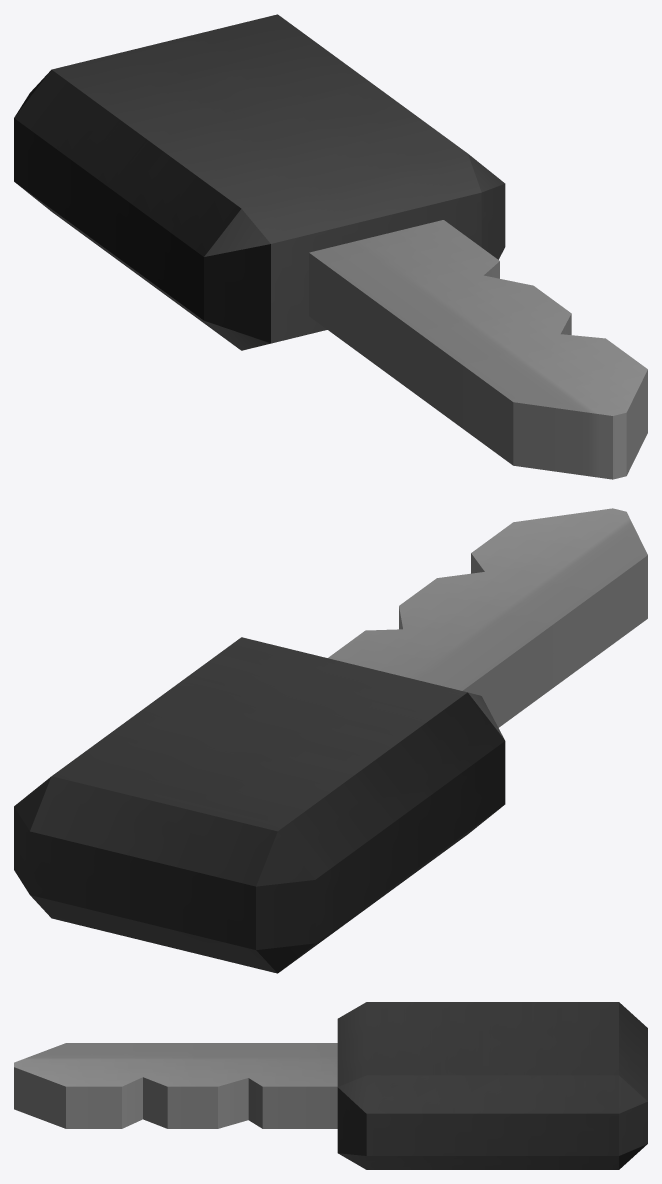
Rendered from key2.fbx.
3 renders of one model, top to bottom at view 1: azimuth 30°, elevation 25°; view 2: azimuth 150°, elevation 25°; view 3: azimuth 270°, elevation 25°, orthographic. The views are drawn at different scales.
Visible parts, largest first — view 1: KeyFob; view 2: KeyFob; view 3: KeyFob.
Part boxes in pixels (bbox=[...]): KeyFob: bbox=[14, 14, 647, 479]; KeyFob: bbox=[14, 508, 647, 973]; KeyFob: bbox=[14, 1002, 647, 1169].
Bounding box in the file's own units: 4.95 × 2.23 × 13.56.
